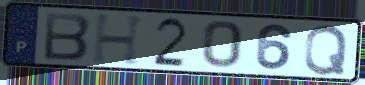0: (200, 19, 246, 70)
2: (153, 16, 191, 68)
6: (255, 23, 294, 72)
B: (42, 11, 93, 62)
H: (90, 13, 149, 67)
Q: (302, 23, 350, 76)
